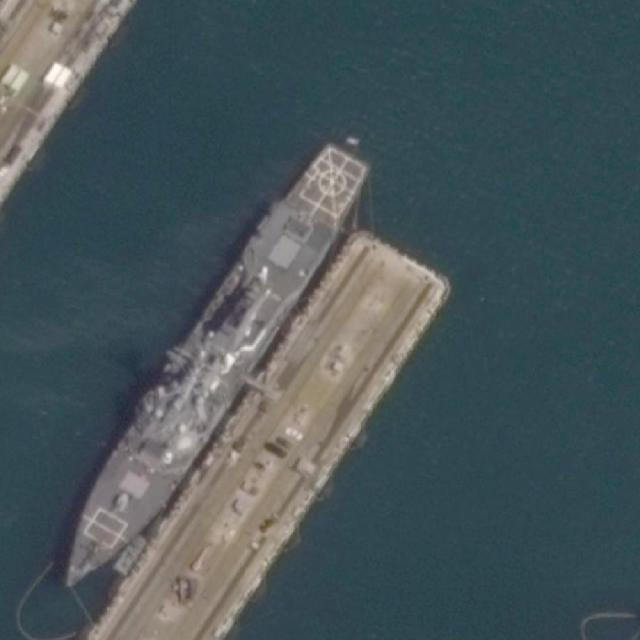Destroyer: (41, 135, 376, 606)
Dock: (127, 221, 458, 639)
